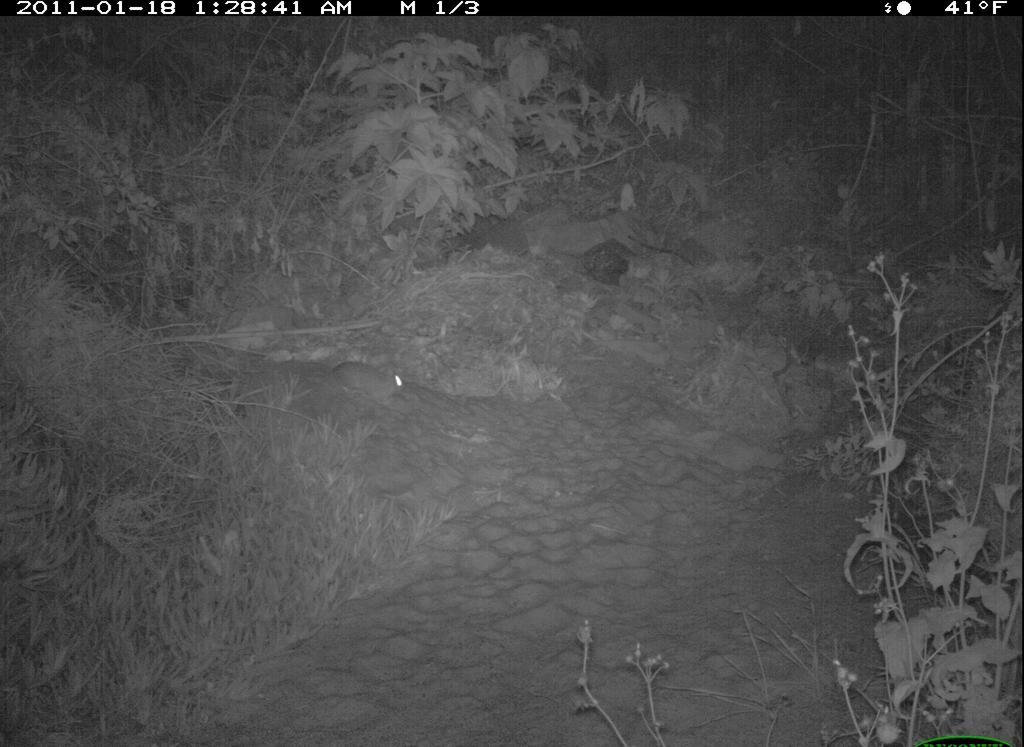rabbit: (323, 340, 414, 417)
